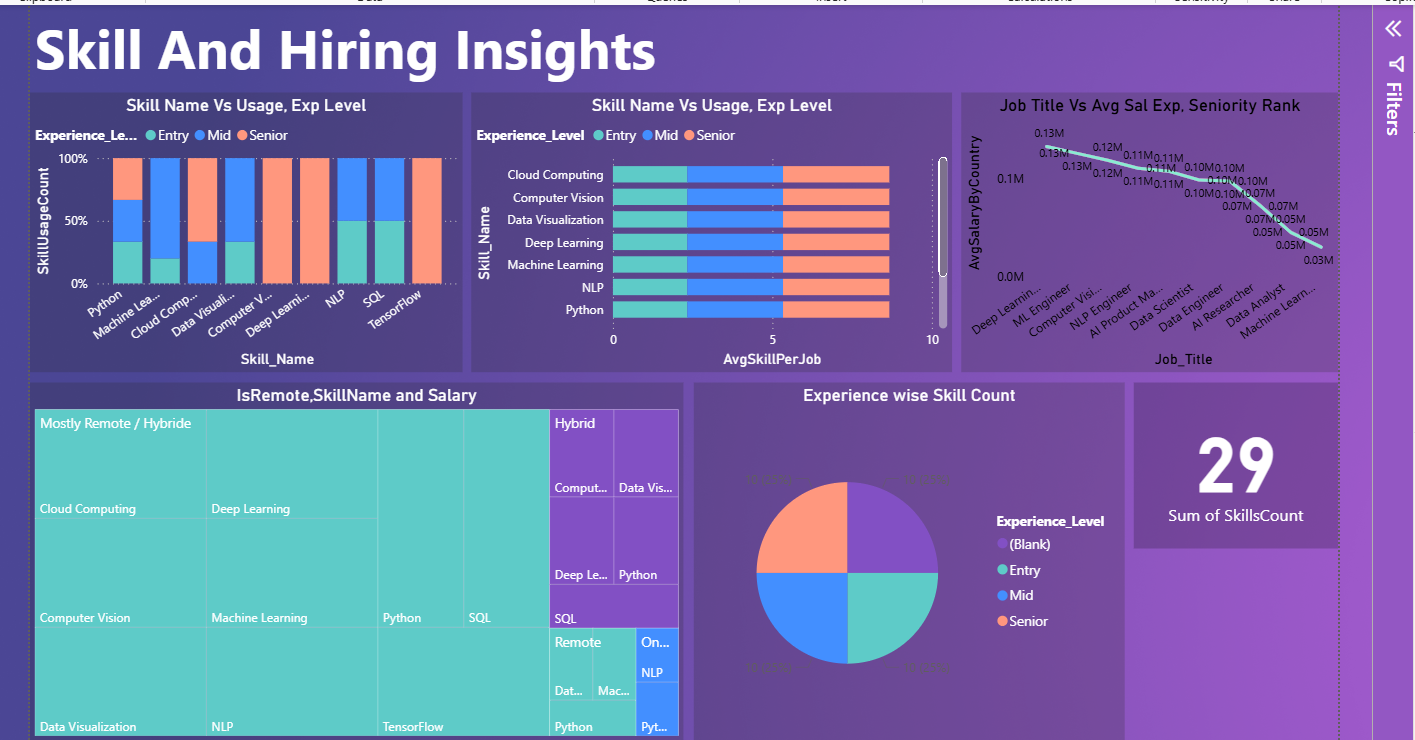

What the dashboard file says about the page in this screenshot:
{"tool":"powerbi","page":{"name":"Skills And Hiring Insights","canvas":[1280,720],"ordinal":3},"visuals":[{"type":"textbox","box":[0,0,639.5,85.6],"z":0},{"type":"hundredPercentStackedColumnChart","title":"Skill Name Vs Usage, Exp Level","fields":{"Category":["Dim_Skills.Skill_Name"],"Series":["Fact_Jobs.Experience_Level"],"Y":["Dim_Skills.SkillUsageCount"]},"box":[0,85.6,423.1,273.9],"z":1000},{"type":"treemap","title":"IsRemote,SkillName and Salary","fields":{"Group":["Fact_Jobs.IsRemote"],"Details":["Dim_Skills.Skill_Name"],"Values":["Sum(Fact_Jobs.Salary_USD)"]},"box":[0,369.3,639.5,351],"z":2000},{"type":"card","fields":{"Values":["Sum(Fact_Jobs.SkillsCount)"]},"box":[1079.8,369.3,200.5,162.6],"z":3000},{"type":"lineChart","title":"Job Title Vs Avg Sal Exp, Seniority Rank ","fields":{"Series":["Dim_Skills.Skill_Name"],"Category":["Fact_Jobs.Job_Title"],"Y":["Fact_Jobs.AvgSalaryByCountry"]},"box":[911,85.6,369.3,273.9],"z":4000},{"type":"barChart","title":"Skill Name Vs Usage, Exp Level","fields":{"Category":["Dim_Skills.Skill_Name"],"Series":["Fact_Jobs.Experience_Level"],"Y":["Fact_Job_Skills.AvgSkillPerJob"]},"box":[431.7,85.6,470.8,273.9],"z":5000},{"type":"pieChart","title":"Experience wise Skill Count","fields":{"Y":["CountNonNull(Dim_Skills.Skill_Name)"],"Category":["Fact_Jobs.Experience_Level"]},"box":[649.3,369.3,421.9,351],"z":6000}]}

Visuals, with their boxes on the page's 1280x720 design canvas (x1, y1, x2, y2). These are canvas units, not pixel positions in the 1415x740 screenshot, which may show the page scaled, cropped or inside an application window:
textbox: region(0, 0, 640, 86)
"Skill Name Vs Usage, Exp Level" hundredPercentStackedColumnChart: region(0, 86, 423, 360)
"IsRemote,SkillName and Salary" treemap: region(0, 369, 640, 720)
card - Sum(Fact_Jobs.SkillsCount): region(1080, 369, 1280, 532)
"Job Title Vs Avg Sal Exp, Seniority Rank " lineChart: region(911, 86, 1280, 360)
"Skill Name Vs Usage, Exp Level" barChart: region(432, 86, 902, 360)
"Experience wise Skill Count" pieChart: region(649, 369, 1071, 720)
